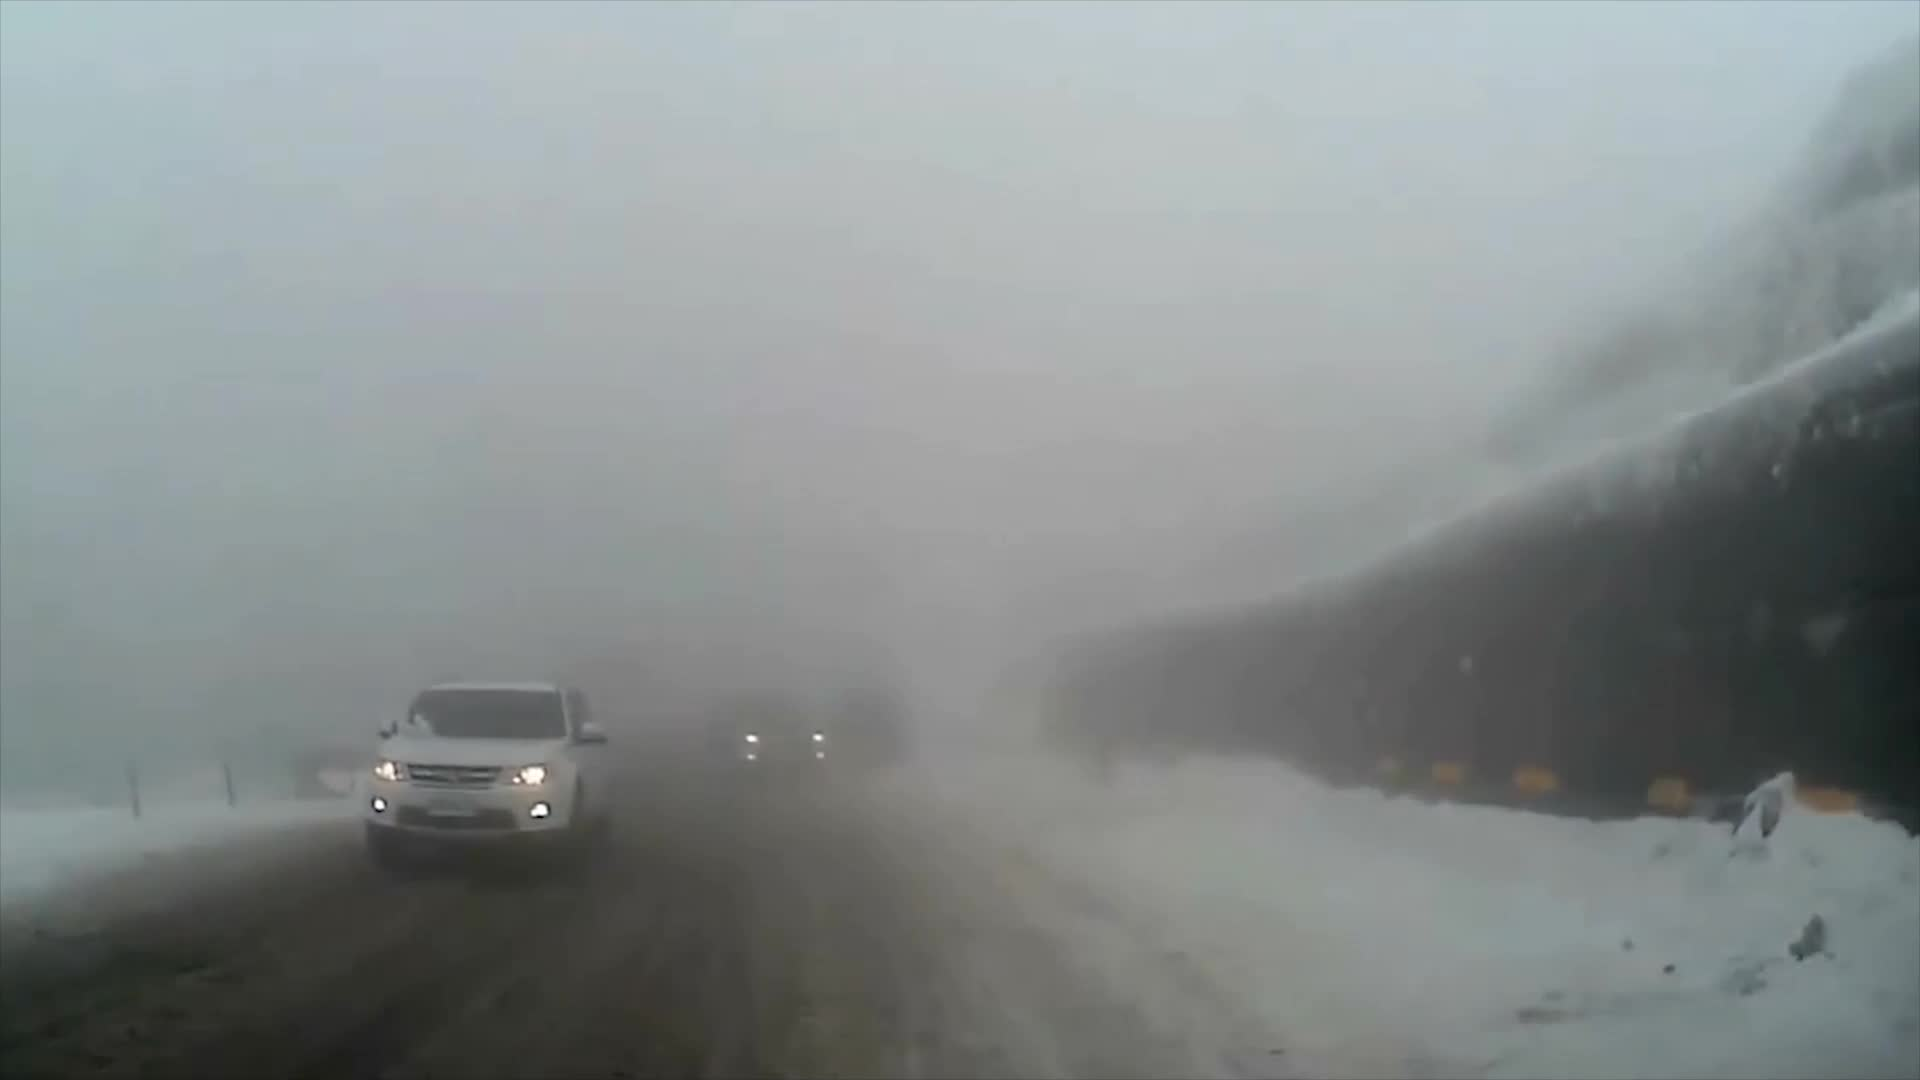vehicle: (360, 673, 615, 876), (700, 694, 831, 789)
